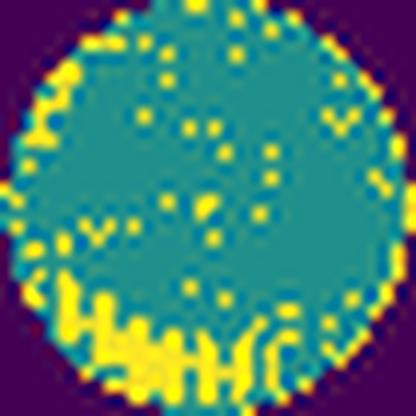Edge-Loc: (19, 239, 312, 412), (18, 28, 126, 158)
